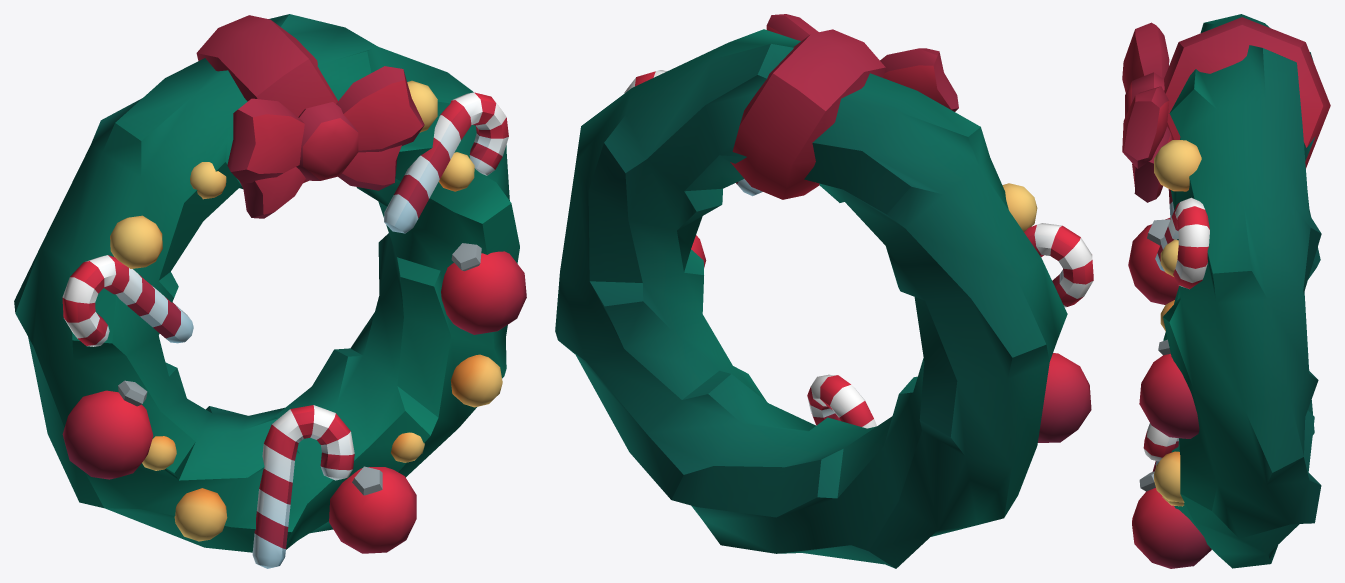
File: wreath.fbx
3 renders of one model, left to right at view 1: azimuth 30°, elevation 25°; view 2: azimuth 150°, elevation 25°; view 3: azimuth 270°, elevation 25°, orthographic. The views are drawn at different scales.
Parts seen in each view (by area): view 1: wreath; view 2: wreath; view 3: wreath.
Part boxes in pixels (x1,y1,x2,y2): wreath: [14, 14, 526, 568]; wreath: [555, 14, 1093, 568]; wreath: [1122, 14, 1330, 568].
Size of the model in its own units: 131 by 134 by 49.96.
